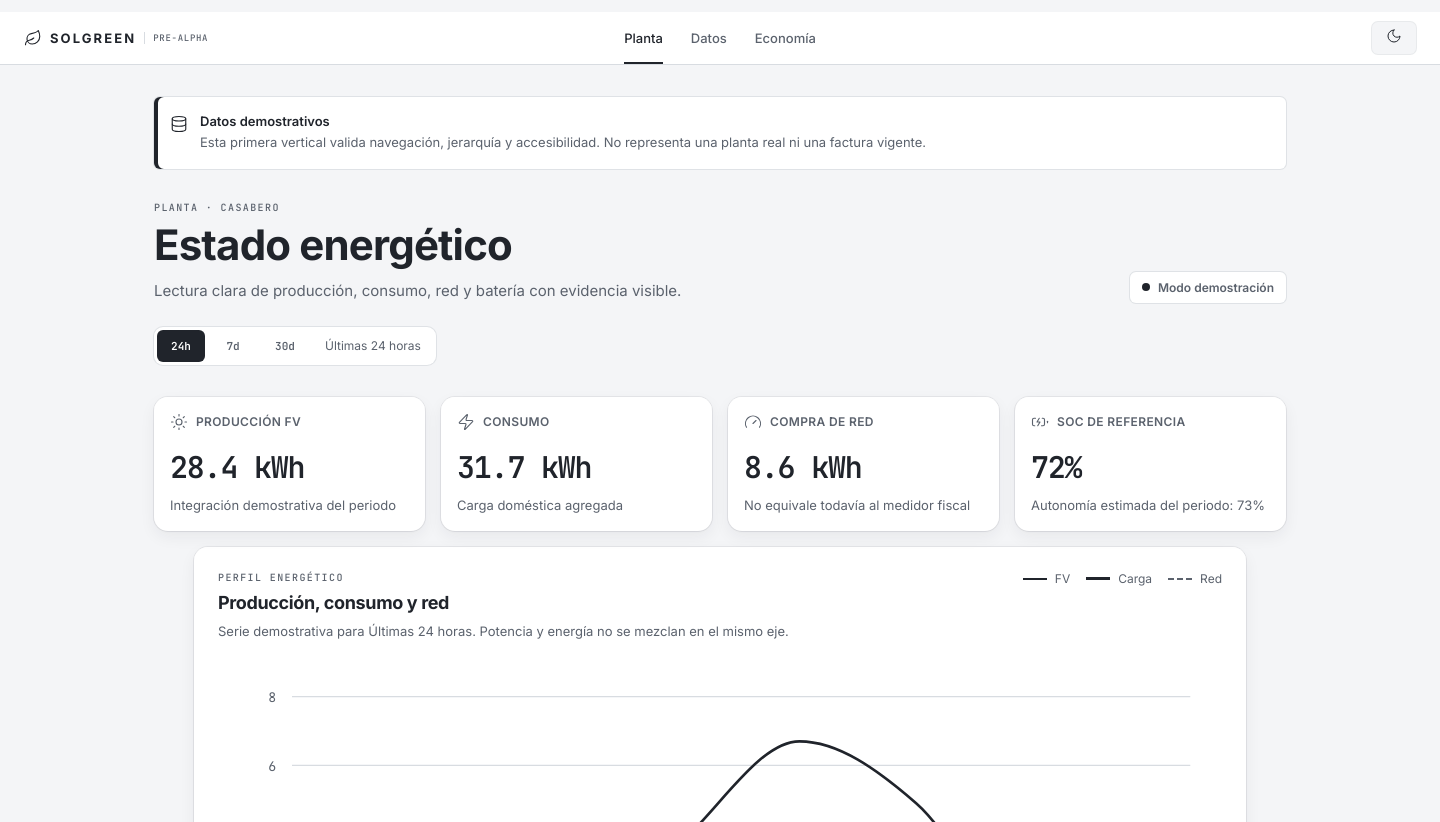
Test case: Solgreen unified frontend › blocks current monetary claims without a verified tariff profile
Click the button "Economía" at coordinates (785, 38), box [743, 12, 828, 64]
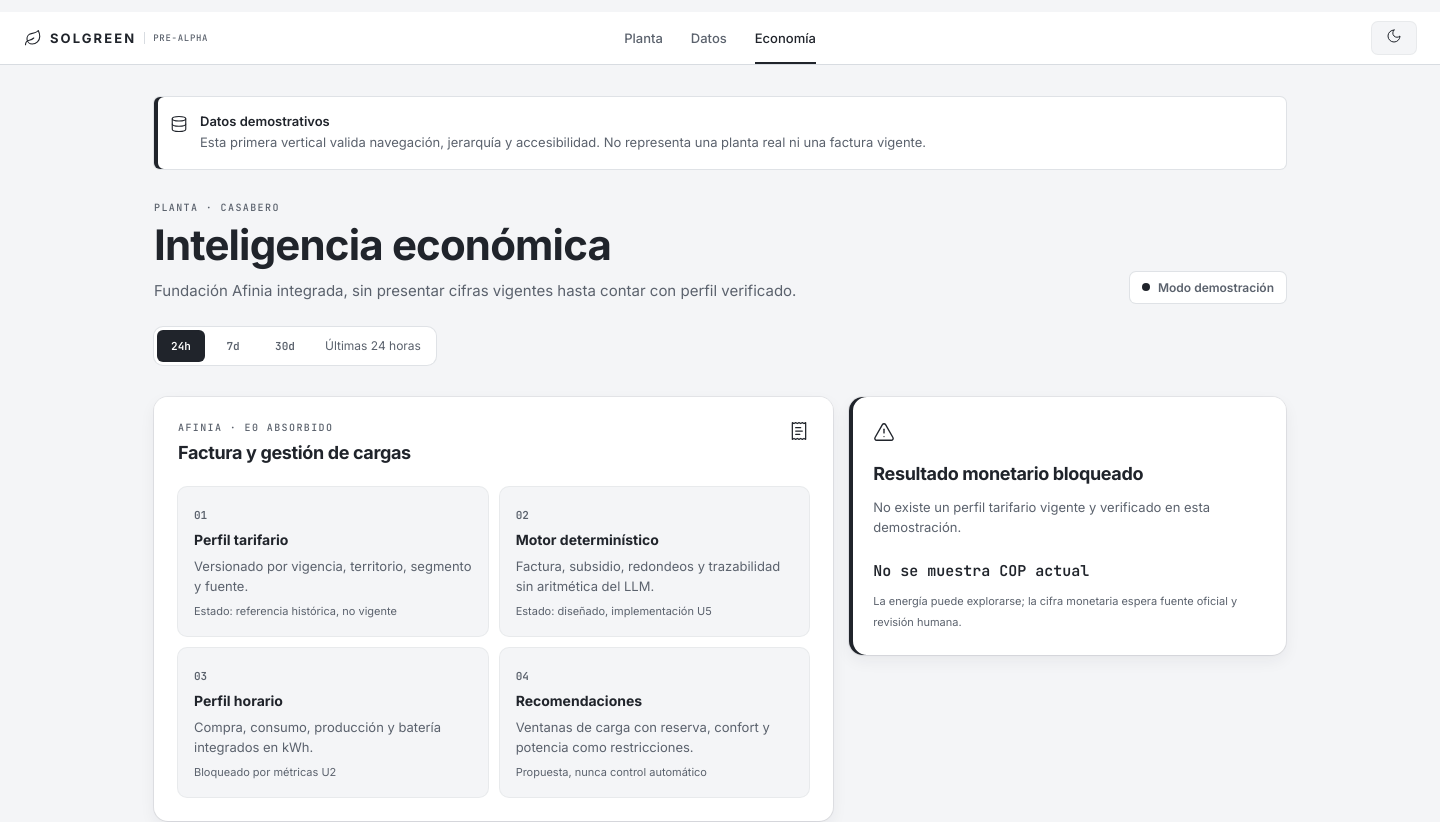
Check: the heading "Resultado monetario bloqueado" is shown, box [873, 463, 1143, 484]
Check: the text "No se muestra COP actual" is shown, box [873, 561, 1089, 581]
